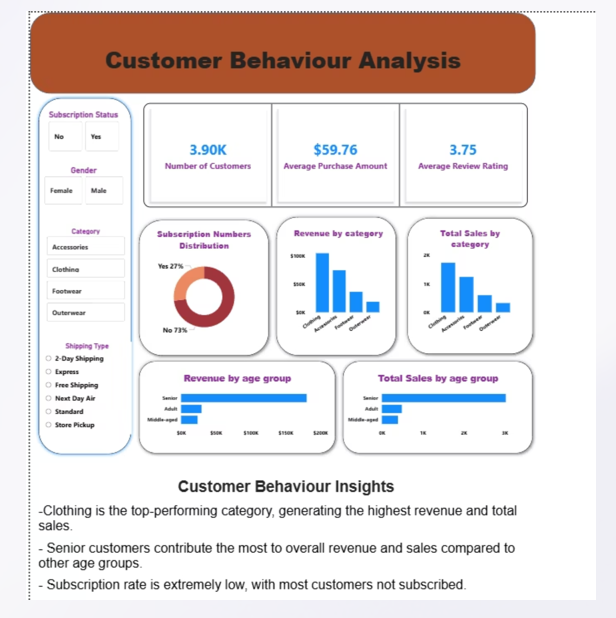

What the dashboard file says about the page in this screenshot:
{"tool":"powerbi","page":{"name":"Page 1","canvas":[1360,1800],"ordinal":0},"visuals":[{"type":"cardVisual","fields":{"Data":["public customer.Number of Customers","public customer.Average Purchase Amount","public customer.Average Review Rating"]},"box":[252.4,197.4,963.3,291.7],"z":0},{"type":"shape","box":[0,0,1215,195],"z":1000},{"type":"textbox","box":[0,0,1215,195],"z":2000},{"type":"shape","box":[252.4,489.1,330,345],"z":3000},{"type":"donutChart","title":"Subscription Numbers Distribution","fields":{"Category":["public customer.subscription_status"],"Y":["Count(public customer.customer_id)"]},"box":[284.1,519.1,266.7,273.3],"z":4000},{"type":"shape","box":[582.4,482.4,306,352],"z":5000},{"type":"shape","box":[896.4,484.4,320,346],"z":6000},{"type":"clusteredColumnChart","title":"Total Sales by category","fields":{"Y":["CountNonNull(public customer.customer_id)"],"Category":["public customer.category"]},"box":[936.4,518.4,240,274],"z":7000},{"type":"clusteredColumnChart","title":"Revenue by category","fields":{"Y":["Sum(public customer.purchase_amount)"],"Category":["public customer.category"]},"box":[620.4,518.4,242,274],"z":8000},{"type":"shape","box":[13.3,196.7,238.3,873.3],"z":9000},{"type":"advancedSlicerVisual","title":"Subscription Status","fields":{"Values":["public customer.subscription_status"]},"box":[40,236,178,104],"z":10000},{"type":"advancedSlicerVisual","title":"Gender","fields":{"Values":["public customer.gender"]},"box":[30,368,198,100],"z":11000},{"type":"advancedSlicerVisual","title":"Category","fields":{"Values":["public customer.category"]},"box":[34,516,198,236],"z":12000},{"type":"listSlicer","title":"Shipping Type","fields":{"Values":["public customer.shipping_type"]},"box":[30,792,214,222],"z":13000},{"type":"shape","box":[252,830,490,240],"z":14000},{"type":"clusteredBarChart","title":"Revenue by age group","fields":{"Y":["Sum(public customer.purchase_amount)"],"Category":["public customer.age_group"]},"box":[274,866,446,166],"z":15000},{"type":"shape","box":[742,830,474,240],"z":16000},{"type":"clusteredBarChart","title":"Total Sales by age group","fields":{"Y":["CountNonNull(public customer.customer_id)"],"Category":["public customer.age_group"]},"box":[758,866,446,166],"z":17000},{"type":"textbox","box":[14,1080,1190,720],"z":17001}]}

Visuals, with their boxes on the page's 1360x1800 design canvas (x1, y1, x2, y2). These are canvas units, not pixel positions in the 616x618 screenshot, which may show the page scaled, cropped or inside an application window:
cardVisual - public customer.Number of Customers x public customer.Average Purchase Amount: rect(252, 197, 1216, 489)
shape: rect(0, 0, 1215, 195)
textbox: rect(0, 0, 1215, 195)
shape: rect(252, 489, 582, 834)
"Subscription Numbers Distribution" donutChart: rect(284, 519, 551, 792)
shape: rect(582, 482, 888, 834)
shape: rect(896, 484, 1216, 830)
"Total Sales by category" clusteredColumnChart: rect(936, 518, 1176, 792)
"Revenue by category" clusteredColumnChart: rect(620, 518, 862, 792)
shape: rect(13, 197, 252, 1070)
"Subscription Status" advancedSlicerVisual: rect(40, 236, 218, 340)
"Gender" advancedSlicerVisual: rect(30, 368, 228, 468)
"Category" advancedSlicerVisual: rect(34, 516, 232, 752)
"Shipping Type" listSlicer: rect(30, 792, 244, 1014)
shape: rect(252, 830, 742, 1070)
"Revenue by age group" clusteredBarChart: rect(274, 866, 720, 1032)
shape: rect(742, 830, 1216, 1070)
"Total Sales by age group" clusteredBarChart: rect(758, 866, 1204, 1032)
textbox: rect(14, 1080, 1204, 1800)
